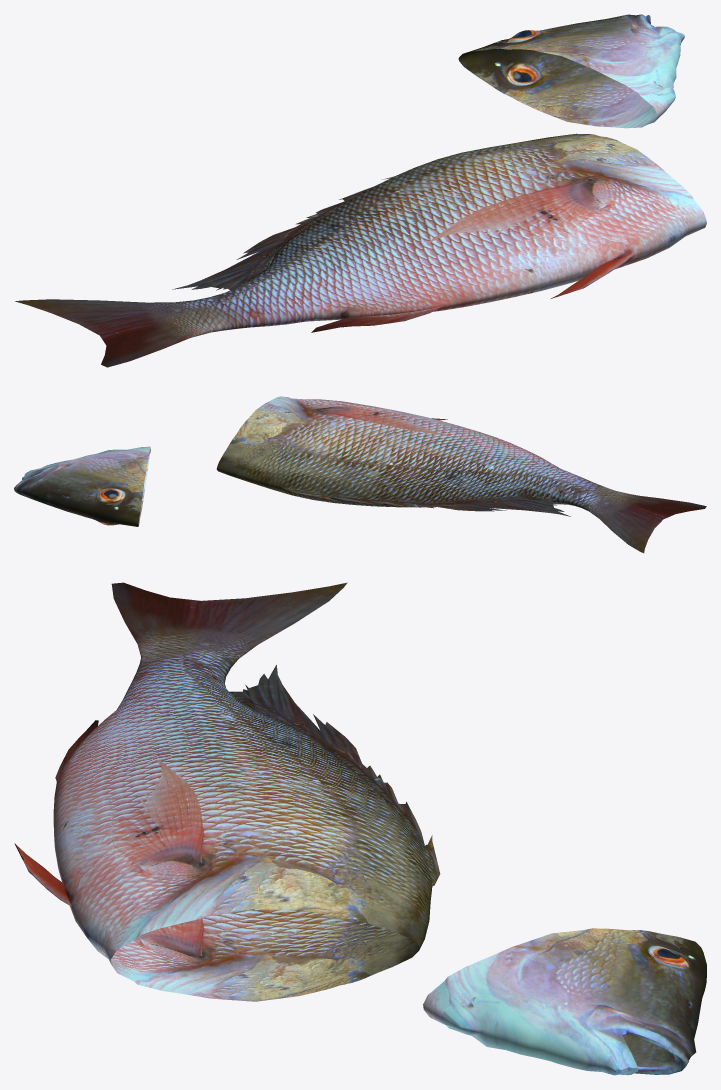
File: Fish_State_1.fbx
3 views of the same model, one above another, from view 1: azimuth 30°, elevation 25°; view 2: azimuth 150°, elevation 25°; view 3: azimuth 270°, elevation 25° (orthographic). The views are drawn at different scales.
Visible parts, largest first — view 1: Body, Head, Fins; view 2: Body, Head, Fins; view 3: Body, Head, Fins.
Boxes of the visible parts, x1,y1,x2,y2 form: Body: (15,133,706,367); Head: (458,14,684,128); Fins: (172,176,636,332); Body: (216,396,706,553); Head: (14,446,150,526); Fins: (282,418,570,516); Body: (53,582,432,1001); Head: (423,928,706,1075); Fins: (14,665,440,906).
Size of the model in its own units: 12.29 by 1.23 by 7.37.
